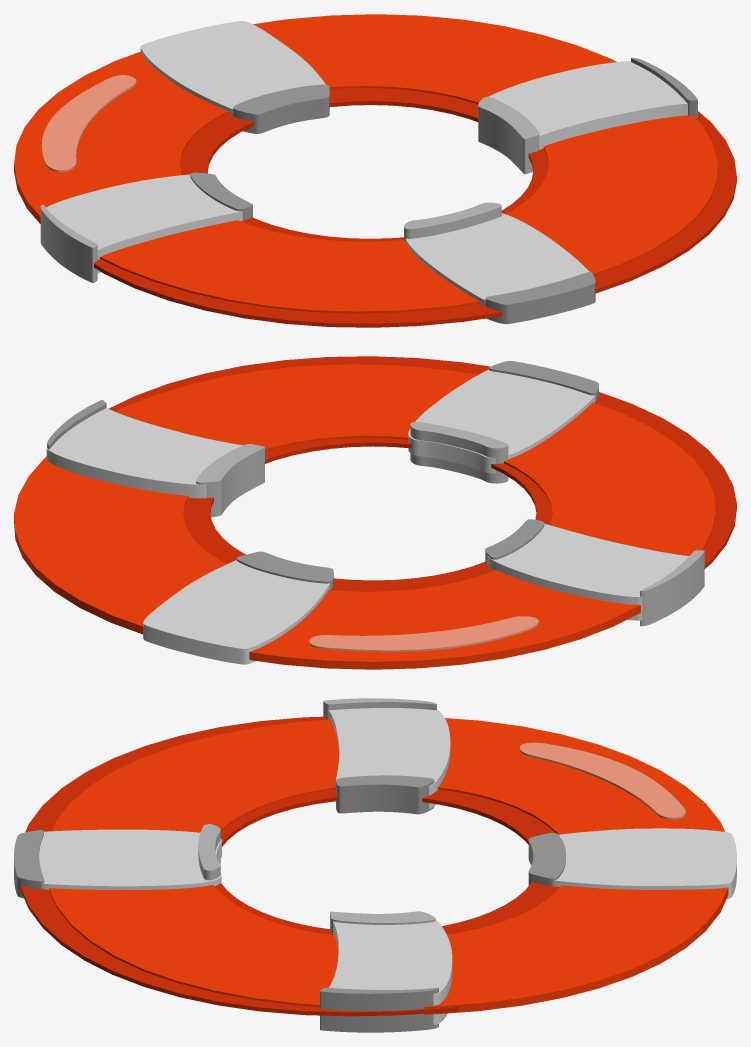
File: emoji_u1f6df.glb
3 renders of one model, top to bottom at view 1: azimuth 30°, elevation 25°; view 2: azimuth 150°, elevation 25°; view 3: azimuth 270°, elevation 25°, orthographic.
Visible parts, largest first — view 1: emoji_u1f6df; view 2: emoji_u1f6df; view 3: emoji_u1f6df.
Part boxes in pixels (x1=…): emoji_u1f6df: x1=14, y1=14, x2=736, y2=327; emoji_u1f6df: x1=14, y1=356, x2=736, y2=669; emoji_u1f6df: x1=14, y1=698, x2=736, y2=1032.
Size of the model in its own units: 0.033 by 0.002 by 0.0338.
